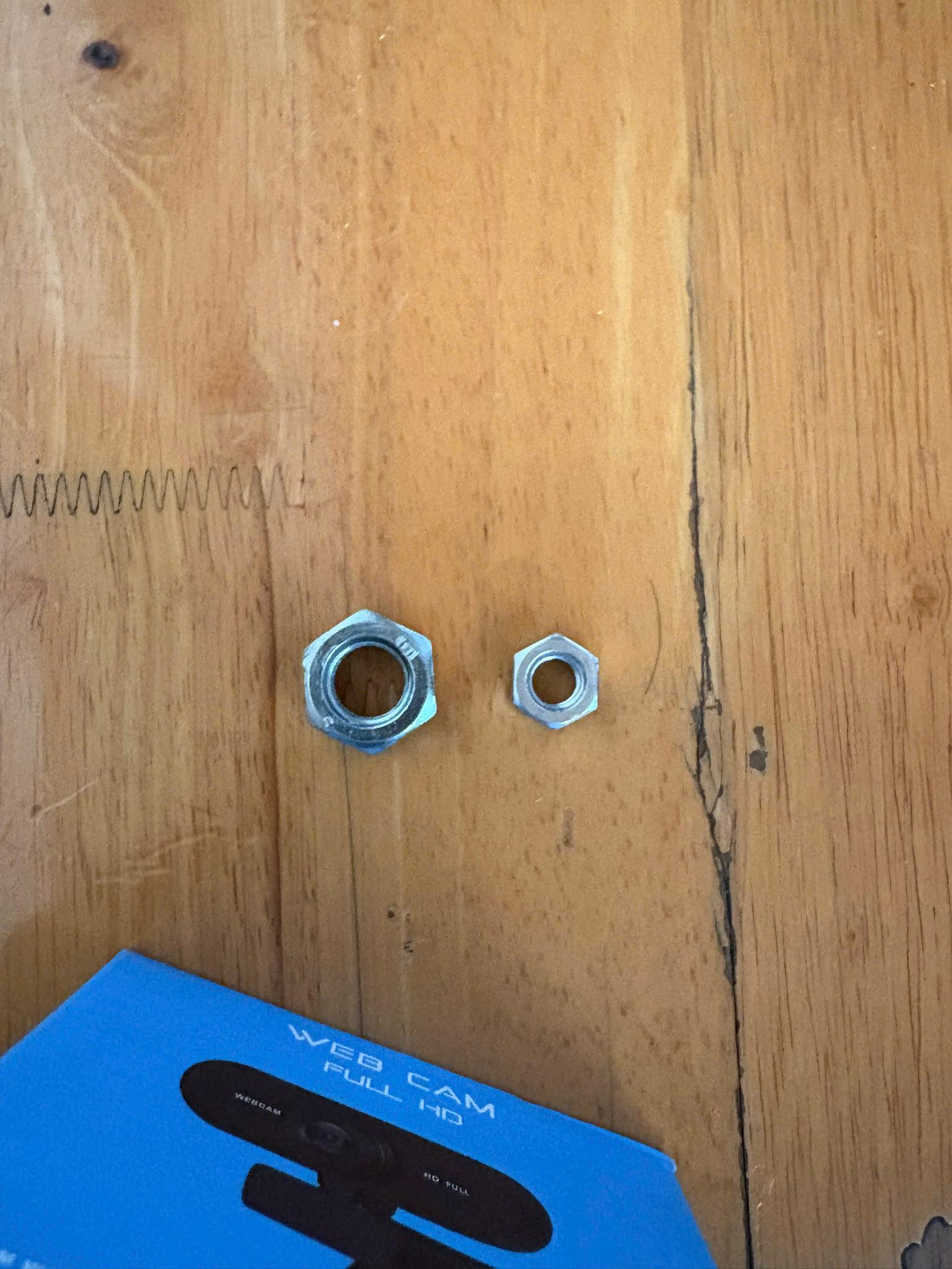nut: (278, 595, 462, 775), (501, 633, 613, 736)
